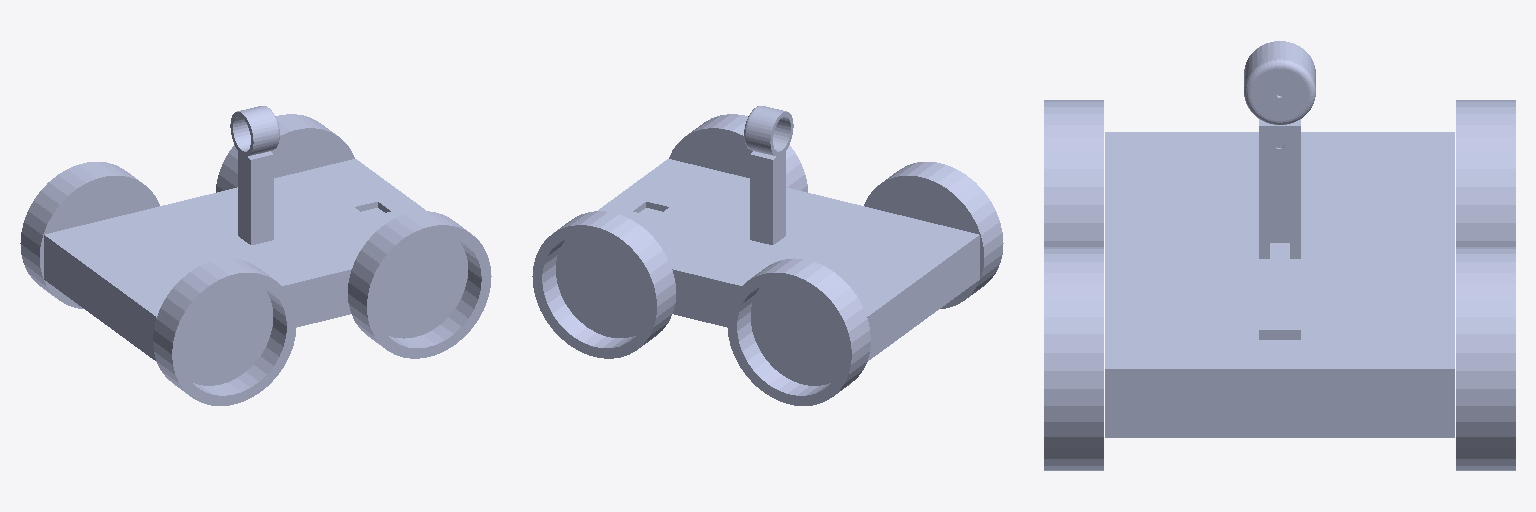
URDF robot description (robot_wheels):
<?xml version="1.0" encoding="utf-8"?>
<!-- This URDF was automatically created by SolidWorks to URDF Exporter! Originally created by [author] ([email redacted]) 
     Commit Version: 1.6.0-1-g15f4949  Build Version: 1.6.7594.29634
     For more information, please see http://wiki.ros.org/sw_urdf_exporter -->
<robot
  name="robot_wheels">
    <link name="dummy"></link> 
   <joint name="dummy_joint" type="fixed">
    <parent link="dummy"/>
    <child link="base_link"/>
  </joint>
  <link
    name="base_link">
    <inertial>
      <origin
        xyz="0 0 0.05"
        rpy="0 0 0" />
      <mass
        value="18" />
      <inertia
        ixx="0.375"
        ixy="-1.1891E-16"
        ixz="0.0015853"
        iyy="0.96"
        iyz="5.2928E-17"
        izz="1.335" />
    </inertial>
    <visual>
      <origin
        xyz="0 0 0"
        rpy="0 0 0" />
      <geometry>
        <mesh
          filename="package://robot_wheels/meshes/base_link.STL" />
      </geometry>
      <material
        name="">
        <color
          rgba="0.79216 0.81961 0.93333 1" />
      </material>
    </visual>
    <collision>
      <origin
        xyz="0 0 0"
        rpy="0 0 0" />
      <geometry>
        <mesh
          filename="package://robot_wheels/meshes/base_link.STL" />
      </geometry>
    </collision>
  </link>
  <link
    name="front_left_w">
    <inertial>
      <origin
        xyz="1.9429E-15 1.0408E-16 0.029873"
        rpy="0 0 0" />
      <mass
        value="3.4008" />
      <inertia
        ixx="0.030105"
        ixy="1.6261E-34"
        ixz="1.8275E-16"
        iyy="0.030105"
        iyz="-1.3413E-34"
        izz="0.056198" />
    </inertial>
    <visual>
      <origin
        xyz="0 0 0"
        rpy="0 0 0" />
      <geometry>
        <mesh
          filename="package://robot_wheels/meshes/front_left_w.STL" />
      </geometry>
      <material
        name="">
        <color
          rgba="0.79216 0.81961 0.93333 1" />
      </material>
    </visual>
    <collision>
      <origin
        xyz="0 0 0"
        rpy="0 0 0" />
      <geometry>
        <mesh
          filename="package://robot_wheels/meshes/front_left_w.STL" />
      </geometry>
    </collision>
  </link>
  <joint
    name="front_left_w_j"
    type="continuous">
    <origin
      xyz="0.25 0.252 0.055"
      rpy="1.5708 0 3.1416" />
    <parent
      link="base_link" />
    <child
      link="front_left_w" />
    <axis
      xyz="0 0 1" />
  </joint>
  <link
    name="front_right_w">
    <inertial>
      <origin
        xyz="-2.7756E-17 6.9389E-18 0.029873"
        rpy="0 0 0" />
      <mass
        value="3.4008" />
      <inertia
        ixx="0.030105"
        ixy="-1.1022E-34"
        ixz="1.1445E-18"
        iyy="0.030105"
        iyz="-9.404E-35"
        izz="0.056198" />
    </inertial>
    <visual>
      <origin
        xyz="0 0 0"
        rpy="0 0 0" />
      <geometry>
        <mesh
          filename="package://robot_wheels/meshes/front_right_w.STL" />
      </geometry>
      <material
        name="">
        <color
          rgba="0.79216 0.81961 0.93333 1" />
      </material>
    </visual>
    <collision>
      <origin
        xyz="0 0 0"
        rpy="0 0 0" />
      <geometry>
        <mesh
          filename="package://robot_wheels/meshes/front_right_w.STL" />
      </geometry>
    </collision>
  </link>
  <joint
    name="front_right_w_j"
    type="continuous">
    <origin
      xyz="0.25 -0.252 0.055"
      rpy="1.5708 0 0" />
    <parent
      link="base_link" />
    <child
      link="front_right_w" />
    <axis
      xyz="0 0 -1" />
  </joint>
  <link
    name="rear_right_w">
    <inertial>
      <origin
        xyz="0 -6.9389E-18 0.029873"
        rpy="0 0 0" />
      <mass
        value="3.4008" />
      <inertia
        ixx="0.030105"
        ixy="-1.1022E-34"
        ixz="1.1445E-18"
        iyy="0.030105"
        iyz="-9.404E-35"
        izz="0.056198" />
    </inertial>
    <visual>
      <origin
        xyz="0 0 0"
        rpy="0 0 0" />
      <geometry>
        <mesh
          filename="package://robot_wheels/meshes/rear_right_w.STL" />
      </geometry>
      <material
        name="">
        <color
          rgba="0.79216 0.81961 0.93333 1" />
      </material>
    </visual>
    <collision>
      <origin
        xyz="0 0 0"
        rpy="0 0 0" />
      <geometry>
        <mesh
          filename="package://robot_wheels/meshes/rear_right_w.STL" />
      </geometry>
    </collision>
  </link>
  <joint
    name="rear_right_w_j"
    type="continuous">
    <origin
      xyz="-0.25 -0.252 0.055"
      rpy="1.5708 0 0" />
    <parent
      link="base_link" />
    <child
      link="rear_right_w" />
    <axis
      xyz="0 0 -1" />
  </joint>
  <link
    name="rear_left_w">
    <inertial>
      <origin
        xyz="1.9984E-15 -1.1102E-16 0.029873"
        rpy="0 0 0" />
      <mass
        value="3.4008" />
      <inertia
        ixx="0.030105"
        ixy="5.1148E-34"
        ixz="1.8011E-16"
        iyy="0.030105"
        iyz="4.702E-35"
        izz="0.056198" />
    </inertial>
    <visual>
      <origin
        xyz="0 0 0"
        rpy="0 0 0" />
      <geometry>
        <mesh
          filename="package://robot_wheels/meshes/rear_left_w.STL" />
      </geometry>
      <material
        name="">
        <color
          rgba="0.79216 0.81961 0.93333 1" />
      </material>
    </visual>
    <collision>
      <origin
        xyz="0 0 0"
        rpy="0 0 0" />
      <geometry>
        <mesh
          filename="package://robot_wheels/meshes/rear_left_w.STL" />
      </geometry>
    </collision>
  </link>
  <joint
    name="rear_left_w_j"
    type="continuous">
    <origin
      xyz="-0.25 0.252 0.055"
      rpy="1.5708 0 3.1416" />
    <parent
      link="base_link" />
    <child
      link="rear_left_w" />
    <axis
      xyz="0 0 1" />
  </joint>
  <link
    name="stand">
    <inertial>
      <origin
        xyz="0 0 0"
        rpy="1.57 0 0" />
      <mass
        value="0.67036" />
      <inertia
        ixx="0.0066208"
        ixy="0"
        ixz="0"
        iyy="0.00052941"
        iyz="0"
        izz="0.0067107" />
    </inertial>
    <visual>
      <origin
        xyz="0 0 0"
        rpy="0 0 0" />
      <geometry>
        <mesh
          filename="package://robot_wheels/meshes/stand.STL" />
      </geometry>
      <material
        name="">
        <color
          rgba="0.79216 0.81961 0.93333 1" />
      </material>
    </visual>
    <collision>
      <origin
        xyz="0 0 0"
        rpy="0 0 0" />
      <geometry>
        <mesh
          filename="package://robot_wheels/meshes/stand.STL" />
      </geometry>
    </collision>
  </link>
  <joint
    name="stand_j"
    type="fixed">
    <origin
      xyz="0 0 0"
      rpy="1.5708 0 1.5708" />
    <parent
      link="base_link" />
    <child
          link="stand" />
    <axis
      xyz="0 0 0" />
  </joint>
  <link
    name="camera">
    <inertial>
      <origin
        xyz="-3.2813E-05 3.2813E-05 0.010779"
        rpy="0 0 0" />
      <mass
        value="0" />
      <inertia
        ixx="0"
        ixy="0"
        ixz="0"
        iyy="0"
        iyz="0"
        izz="0" />
    </inertial>
    <visual>
      <origin
        xyz="0 0 0"
        rpy="0 0 0" />
      <geometry>
        <mesh
          filename="package://robot_wheels/meshes/camera.STL" />
      </geometry>
      <material
        name="">
        <color
          rgba="0.79216 0.81961 0.93333 1" />
      </material>
    </visual>
    <collision>
      <origin
        xyz="0 0 0"
        rpy="0 0 0" />
      <geometry>
        <mesh
          filename="package://robot_wheels/meshes/camera.STL" />
      </geometry>
    </collision>
  </link>
  <joint
    name="camera_j"
    type="fixed">
    <origin
      xyz="0 0.29 0.008"
      rpy="0 0 0" />
    <parent
      link="stand" />
    <child
      link="camera" />
    <axis
      xyz="0 0 0" />
  </joint>
  <link
    name="lidar">
    <inertial>
      <origin
        xyz="-0.061872 0.0065972 -1.3856E-08"
        rpy="0 0 -1.57" />
      <mass
        value="0.31988" />
      <inertia
        ixx="0.00042677"
        ixy="1.3258E-06"
        ixz="1.6619E-10"
        iyy="0.00056964"
        iyz="-1.783E-11"
        izz="0.00043802" />
    </inertial>
    <visual>
      <origin
        xyz="0 0 0"
        rpy="0 0 0" />
      <geometry>
        <mesh
          filename="package://robot_wheels/meshes/lidar.STL" />
      </geometry>
      <material
        name="">
        <color
          rgba="0.79216 0.81961 0.93333 1" />
      </material>
    </visual>
    <collision>
      <origin
        xyz="0 0 0"
        rpy="0 0 0" />
      <geometry>
        <mesh
          filename="package://robot_wheels/meshes/lidar.STL" />
      </geometry>
    </collision>
  </link>
  <joint
    name="lidar_j"
    type="revolute">
    <origin
      xyz="0 0.31 0"
      rpy="1.5708 0 -1.5708" />
    <parent
      link="stand" />
    <child
      link="lidar" />
    <axis
      xyz="1 0 0" />
    <limit
      lower="-1.57"
      upper="6.38"
      effort="1"
      velocity="0.005" />
  </joint>
  <transmission name="transmission_1">
    <type> transmission_interface/SimpleTransmission</type>
    <joint name= "lidar_j">
      <hardwareInterface>hardware_interface/EffortJointInterface</hardwareInterface>
    </joint>
    <actuator name="motor1">
      <hardwareInterface>hardware_interface/EffortJointInterface</hardwareInterface>
      <mechanicalReduction>1</mechanicalReduction>
    </actuator>
  </transmission>

 <gazebo>
    <plugin name="gazebo_ros_control" filename="libgazebo_ros_control.so">
      
      <robotNamespace>/robot_wheels</robotNamespace>
    </plugin>
  </gazebo>

 <gazebo reference="lidar">
    <sensor type="ray" name="head_hokuyo_sensor">
      <pose>-0.0515 0 0 0 0 0</pose>
      <visualize>true</visualize>
      <update_rate>40</update_rate>
      <ray>
        <scan>
          <horizontal>
            <samples>720</samples>
            <resolution>1</resolution>
            <min_angle>1.25</min_angle>
            <max_angle>3.34</max_angle>
          </horizontal>
        </scan>
        <range>
          <min>0.10</min>
          <max>30.0</max>
          <resolution>0.01</resolution>
        </range>
      </ray>
      <plugin name="gazebo_ros_head_hokuyo_controller" filename="libgazebo_ros_laser.so">
        <topicName>/laser/scan</topicName>
        <frameName>lidar</frameName>
        <ns>/</ns>
      </plugin>
    </sensor>
  </gazebo>
  
  <gazebo>
  <plugin name="skid_steer_drive_controller" filename="libgazebo_ros_skid_steer_drive.so">
    <updateRate>100.0</updateRate>
    <robotNamespace>/</robotNamespace>
    <leftFrontJoint>front_left_w_j</leftFrontJoint>
    <rightFrontJoint>front_right_w_j</rightFrontJoint>
    <leftRearJoint>rear_left_w_j</leftRearJoint>
    <rightRearJoint>rear_right_w_j</rightRearJoint>
    <wheelSeparation>0.5</wheelSeparation>
    <wheelDiameter>0.23</wheelDiameter>
    <robotBaseFrame>base_link</robotBaseFrame>
    <commandTopic>cmd_vel</commandTopic>
    <odometryTopic>odom</odometryTopic>
   <odometryFrame>odom</odometryFrame>
    <odometrySource>world</odometrySource>
    <torque>20</torque>
    <topicName>cmd_vel</topicName>
    <broadcastTF>true</broadcastTF>
    <publishOdomTF>true</publishOdomTF>
    <covariance_x>0.0001</covariance_x>
    <covariance_y>0.0001</covariance_y>
    <covariance_yaw>0.0001</covariance_yaw>
   


<mu1>1.0</mu1>

<mu2>1.0</mu2>


  </plugin>
</gazebo>
  
<gazebo reference="front_right_w">
	<mu1>1.2</mu1>
	<mu2>1.2</mu2>
	<fdir1>0 1 0 </fdir1>
	<slip1>0.0</slip1>
	<slip2>0.0</slip2>
      </gazebo>
    <gazebo reference="front_left_w">
	<mu1>1.2</mu1>
	<mu2>1.2</mu2>
	<fdir1>0 1 0 </fdir1>
	<slip1>0.0</slip1>
	<slip2>0.0</slip2>
      </gazebo>
      <gazebo reference="rear_right_w">
	<mu1>1.2</mu1>
	<mu2>1.2</mu2>
	<fdir1>0 1 0 </fdir1>
	<slip1>0.0</slip1>
	<slip2>0.0</slip2>
      </gazebo>
    <gazebo reference="rear_left_w">
	<mu1>1.2</mu1>
	<mu2>1.2</mu2>
	<fdir1>0 1 0 </fdir1>
	<slip1>0.0</slip1>
	<slip2>0.0</slip2>
   </gazebo>

</robot>

--- Facts derived from the render (not from the file) ---
Views: 3 orthographic renders of the robot side by side, from view 1: azimuth 30°, elevation 25°; view 2: azimuth 150°, elevation 25°; view 3: azimuth 270°, elevation 25°.
Model robot_wheels with 9 links and 8 joints (1 revolute, 4 continuous, 3 fixed), rooted at dummy, posed every joint at zero.
Visible links, largest first — view 1: base_link, front_right_w, rear_right_w, rear_left_w, front_left_w, stand, lidar; view 2: base_link, front_left_w, rear_left_w, rear_right_w, front_right_w, stand, lidar; view 3: base_link, front_left_w, front_right_w, rear_right_w, rear_left_w, lidar, stand.
Boxes of the visible links, bbox=[...] form: base_link: bbox=[44, 159, 425, 361]; front_right_w: bbox=[348, 211, 491, 358]; rear_right_w: bbox=[153, 259, 296, 405]; rear_left_w: bbox=[20, 162, 159, 308]; front_left_w: bbox=[216, 114, 354, 192]; stand: bbox=[238, 151, 273, 244]; lidar: bbox=[230, 106, 279, 156]; base_link: bbox=[598, 159, 979, 361]; front_left_w: bbox=[532, 211, 675, 358]; rear_left_w: bbox=[727, 258, 870, 405]; rear_right_w: bbox=[864, 162, 1003, 308]; front_right_w: bbox=[669, 114, 807, 192]; stand: bbox=[750, 151, 785, 244]; lidar: bbox=[744, 106, 793, 156]; base_link: bbox=[1105, 132, 1454, 437]; front_left_w: bbox=[1456, 247, 1515, 470]; front_right_w: bbox=[1044, 247, 1103, 470]; rear_right_w: bbox=[1044, 100, 1103, 246]; rear_left_w: bbox=[1456, 100, 1515, 246]; lidar: bbox=[1244, 41, 1315, 124]; stand: bbox=[1259, 119, 1300, 258].
Size in the robot's own frame: 0.82 by 0.674 by 0.5285 metres.
8 mesh visuals loaded from 8 distinct referenced files (8 binary STL).
